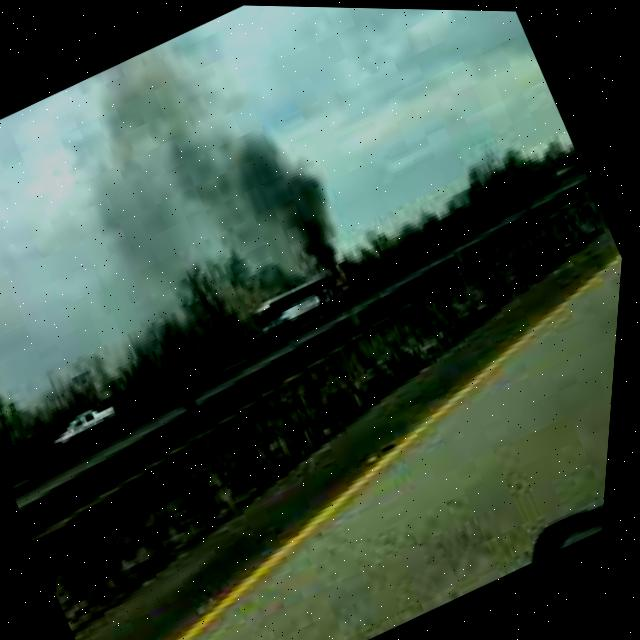Smoke: (47, 1, 403, 372)
